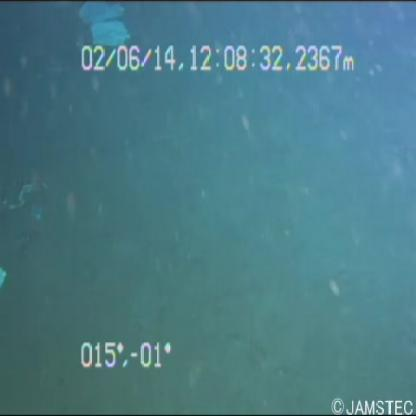Rác: (72, 1, 136, 53)
